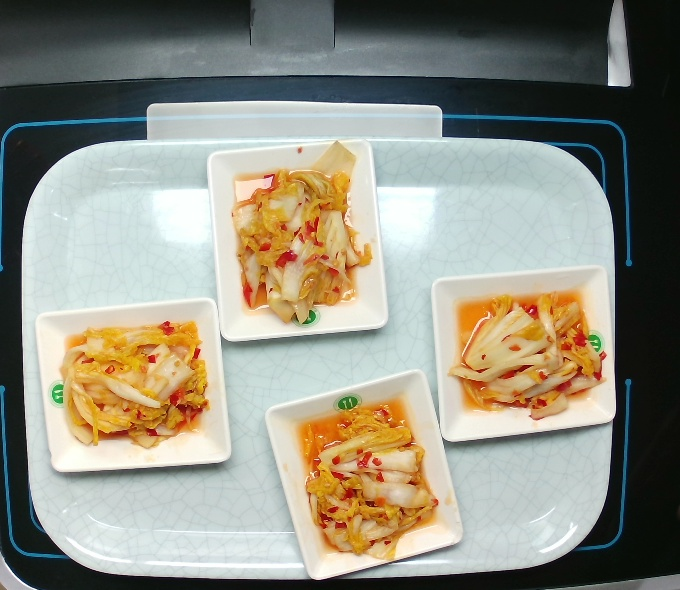wcq-SuanLaBaiCai: (229, 159, 369, 321), (452, 290, 609, 427), (302, 401, 438, 554), (62, 330, 208, 452)
